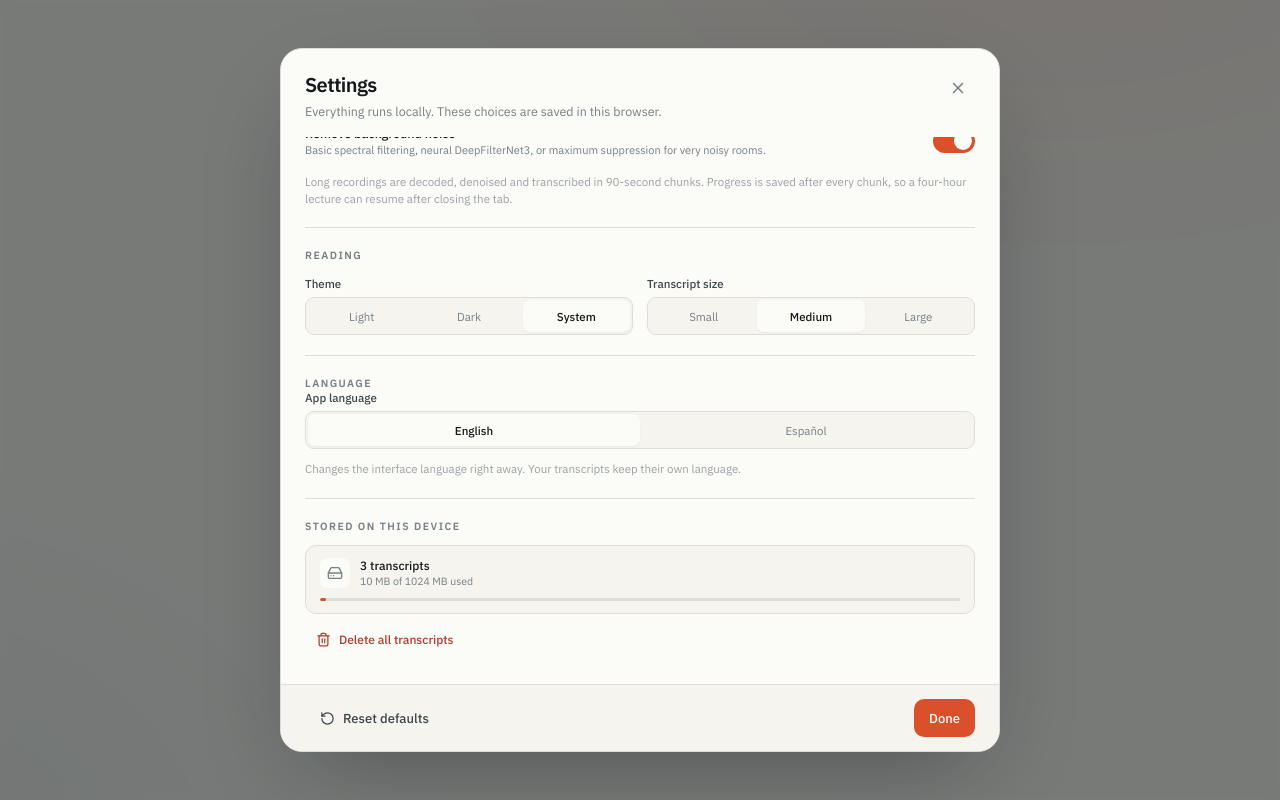
Test case: SettingsDialog › grows the danger confirmation in place too
This screenshot has width=1280, height=800.
(page scrolled)
Click the button "Delete all transcripts".
click(385, 640)  # box [305, 624, 464, 656]
(page scrolled)
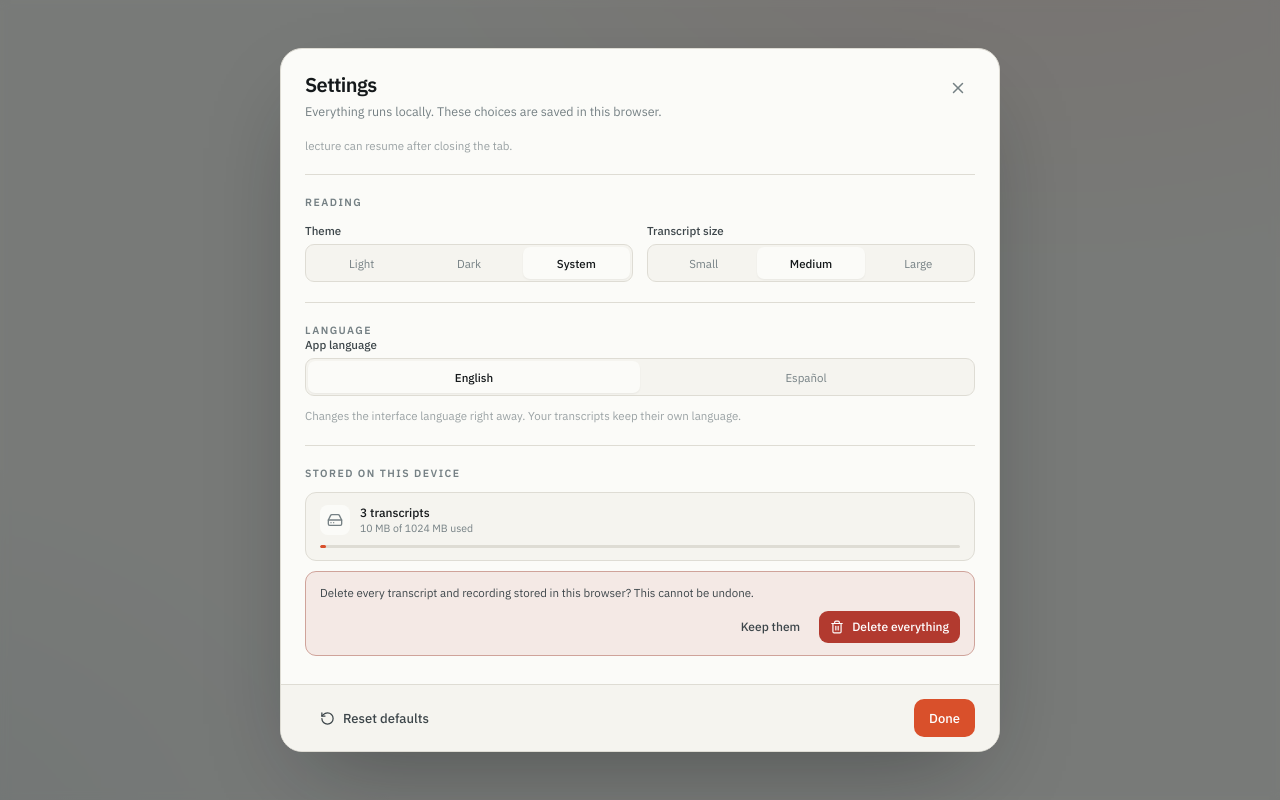
Expected: the text "cannot be undone" is shown, [320, 585, 754, 600]
Result: the number of elements with class "open" is 1 at [305, 561, 975, 656]
